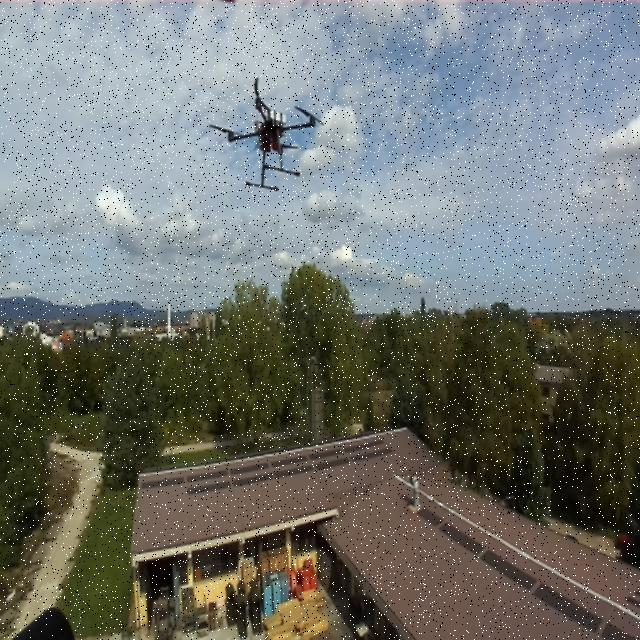UAV: (202, 68, 332, 194)
